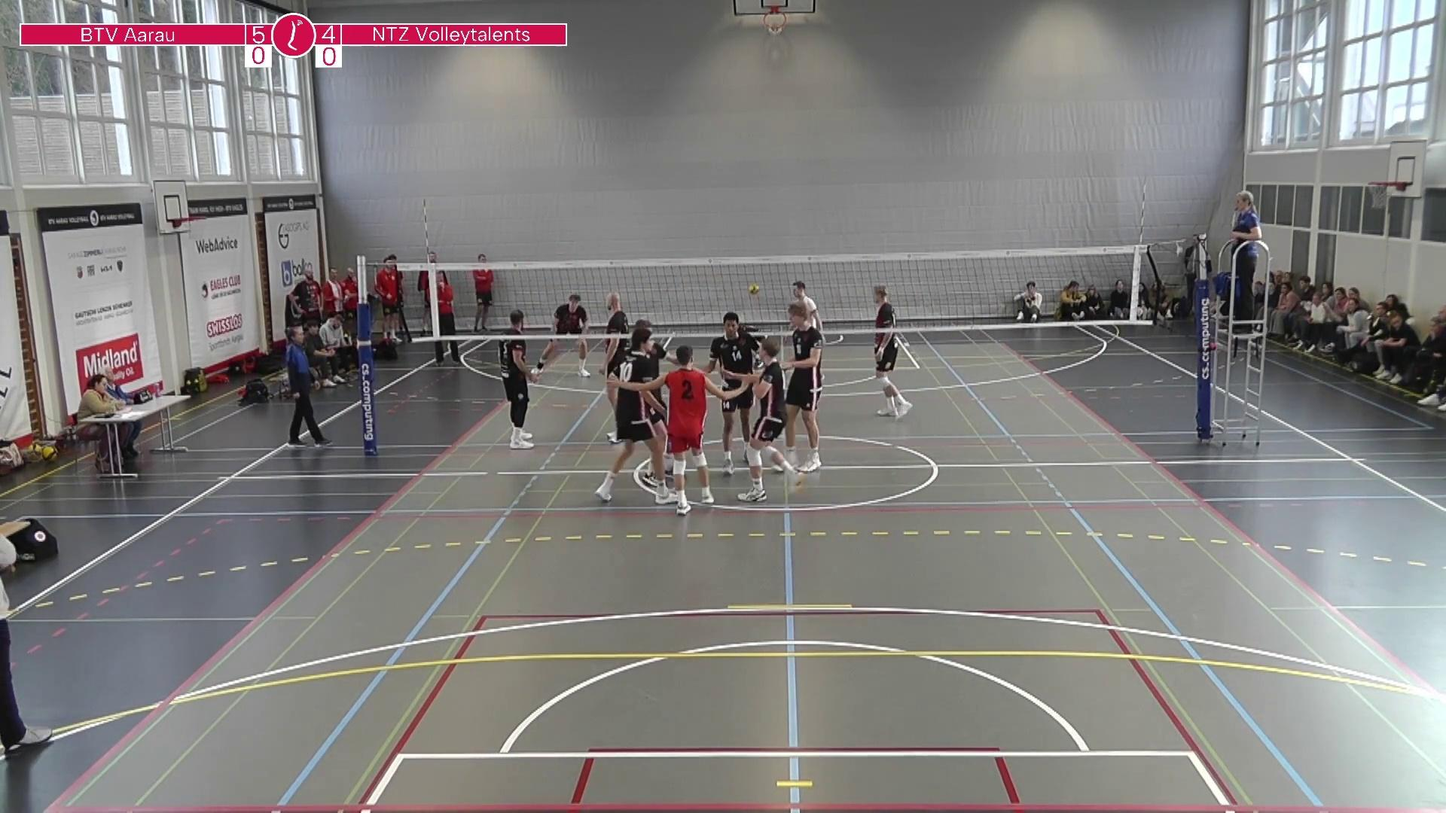Player: (609, 342, 752, 510), (597, 337, 677, 504), (740, 343, 807, 501), (709, 312, 763, 472), (785, 302, 824, 471), (602, 296, 642, 443), (871, 286, 911, 419), (533, 293, 591, 379), (500, 312, 535, 449), (598, 294, 628, 375), (792, 281, 820, 334)
ball: (746, 280, 762, 297)
